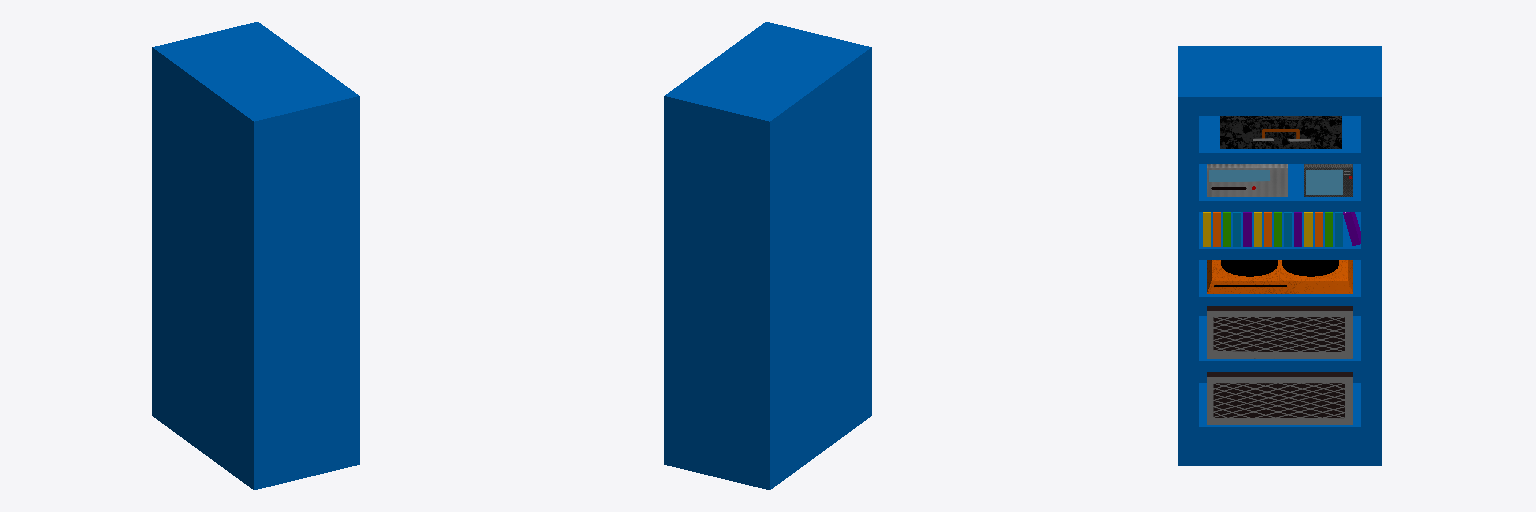
3 views of the same model, side by side, from view 1: azimuth 30°, elevation 25°; view 2: azimuth 150°, elevation 25°; view 3: azimuth 270°, elevation 25° (orthographic).
Parts seen in each view (by area): view 1: polySurface33; view 2: polySurface33; view 3: polySurface33.
Boxes of the visible parts, x1=… form: polySurface33: x1=152, y1=22, x2=359, y2=489; polySurface33: x1=664, y1=22, x2=871, y2=489; polySurface33: x1=1178, y1=46, x2=1381, y2=465.
Size of the model in its own units: 1.23 by 4.09 by 2.05.
Materials: 12 (11 with a texture image).